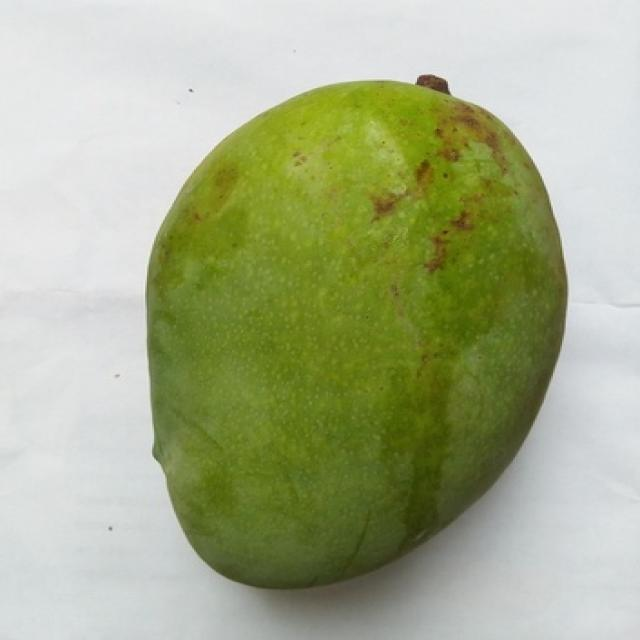Mango: (149, 82, 566, 587)
